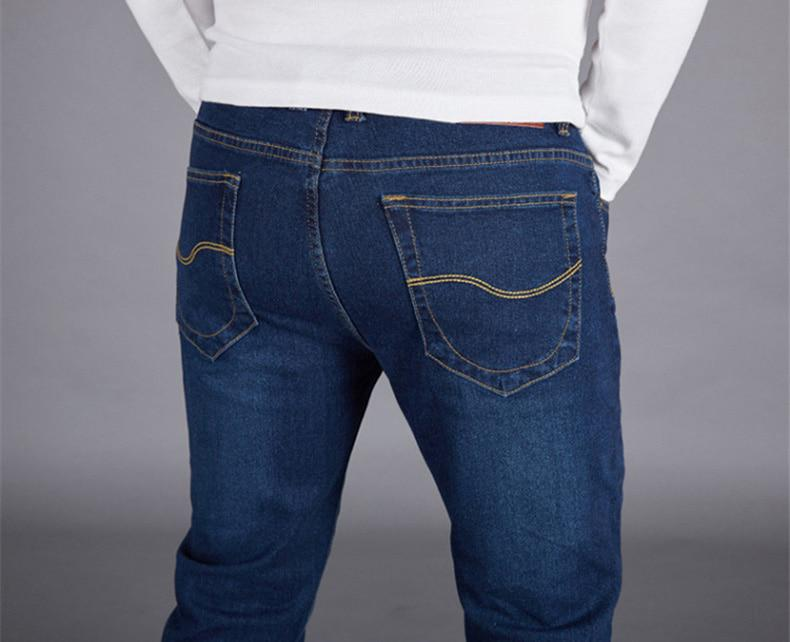jeans: (146, 106, 607, 642)
